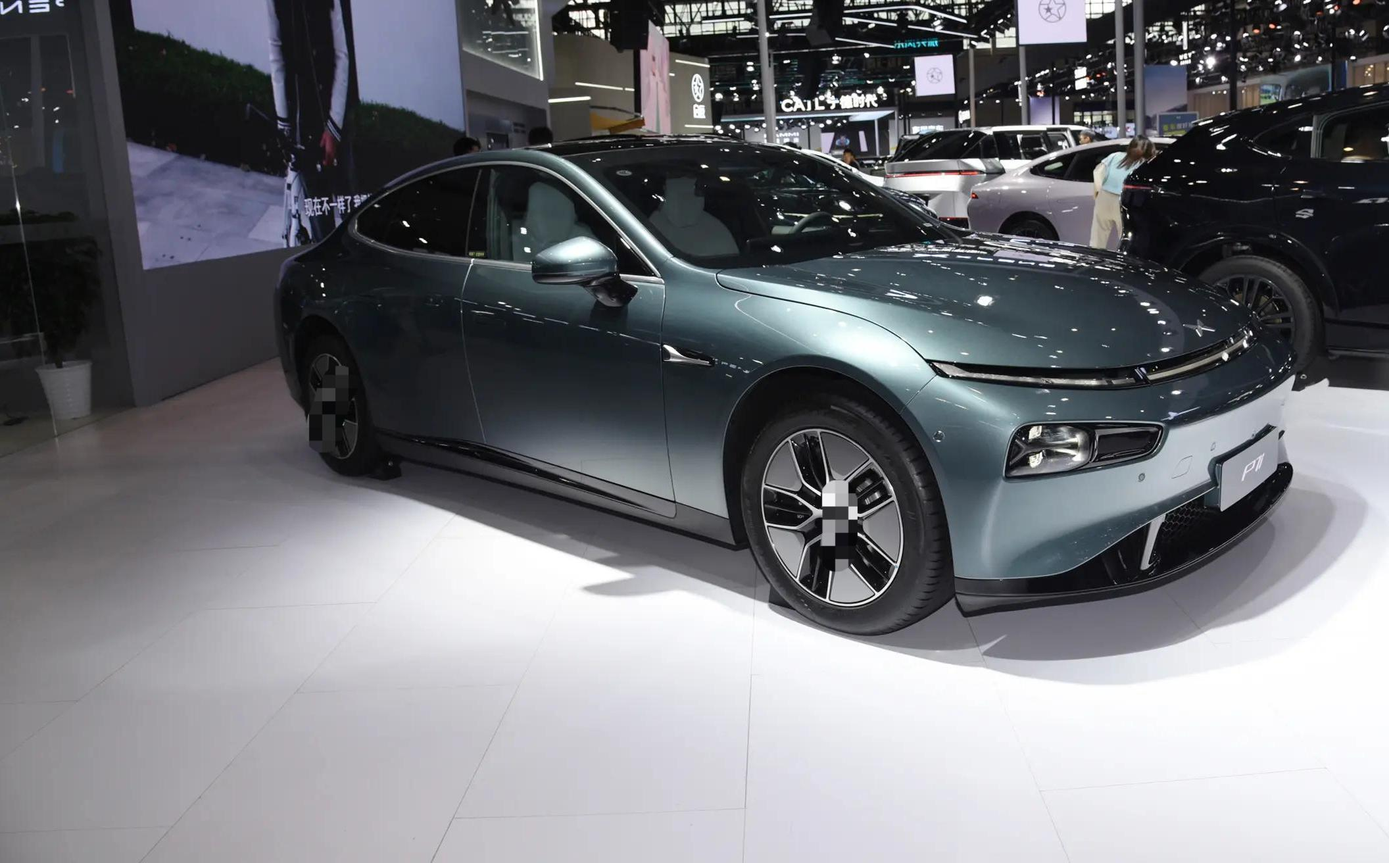XPeng Motors: (1182, 318, 1215, 337)
